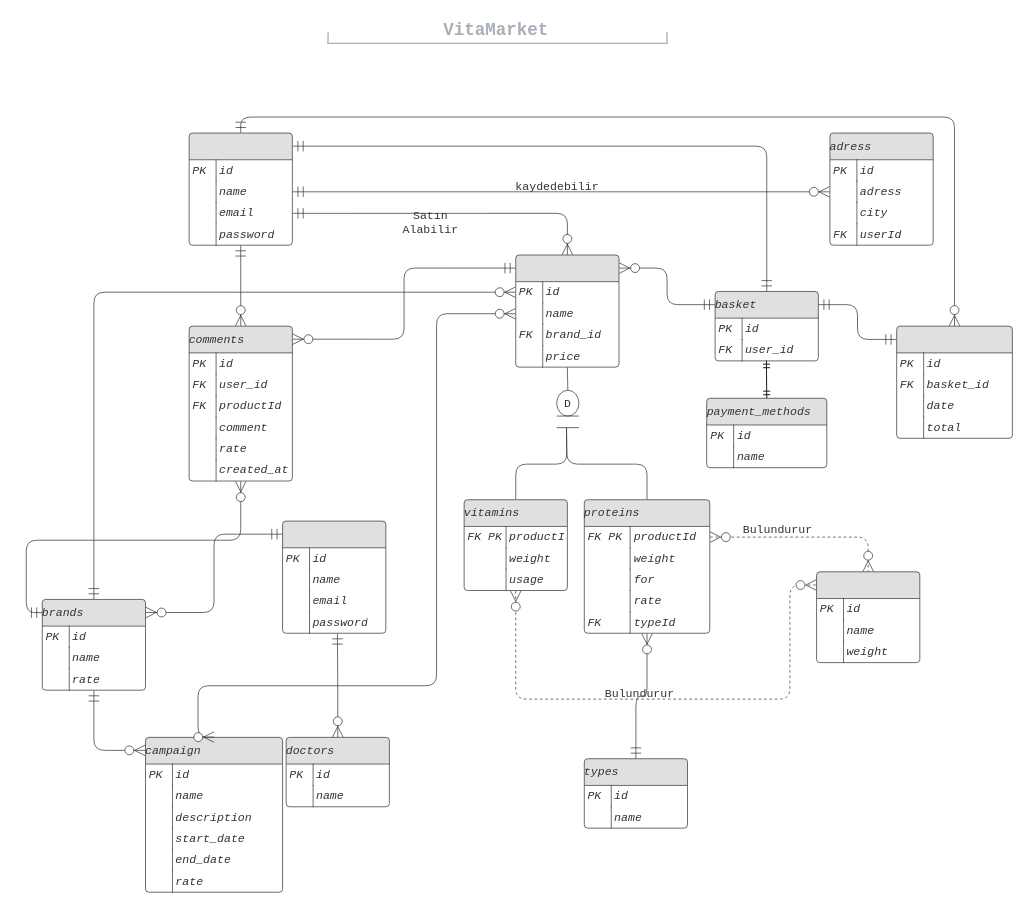
Image size: 1028x912. Some labels were removed from this diagram. The shapes that lost their labels are listed below. From the top down, each one's box as (x1, y1, x2, y2) in pixels, then its label:
(210, 32, 781, 60): mertgolcu-g181210059 | %date{mmmm d, yyyy}%
(188, 132, 292, 245): user
(515, 254, 619, 367): products
(896, 325, 1012, 438): transaction
(282, 520, 386, 633): dealers
(816, 571, 920, 663): active_materials
